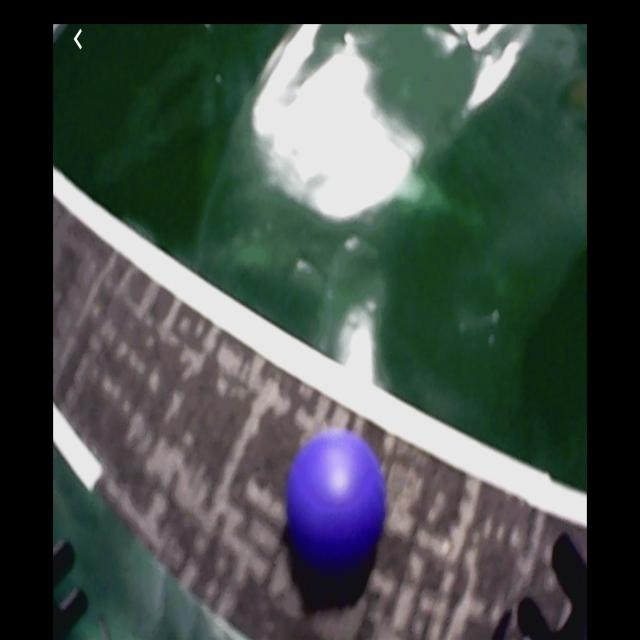ball: (291, 433, 385, 573)
